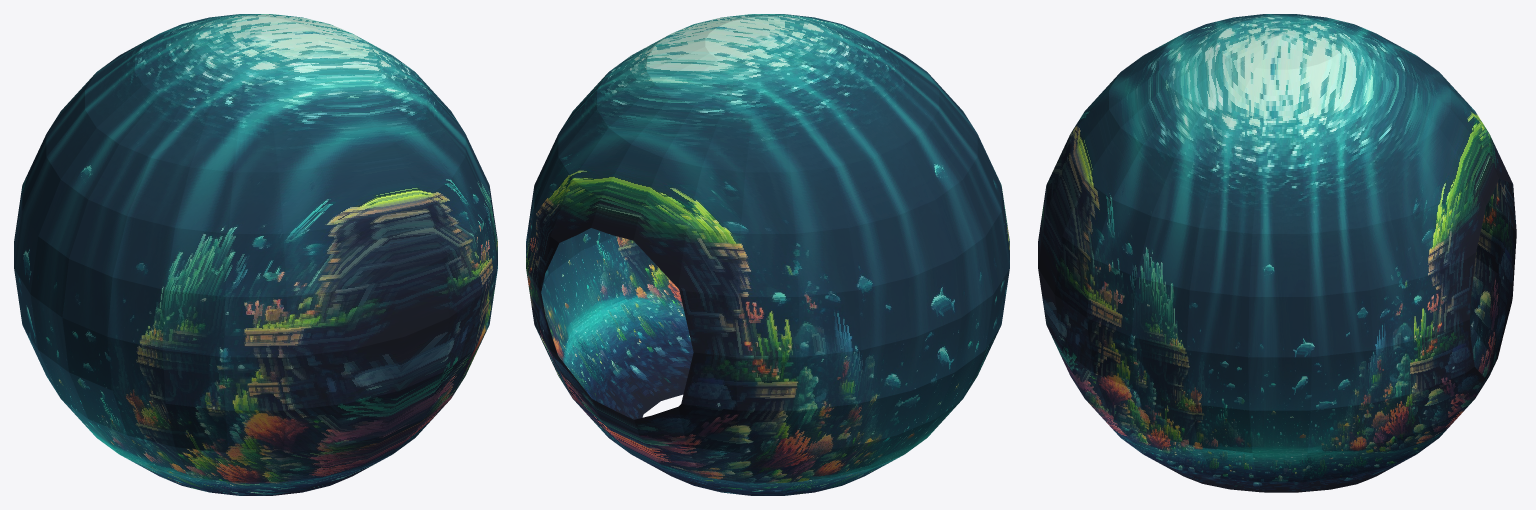
Rendered from SkyBoxOcean.gltf.
3 views of the same model, side by side, from view 1: azimuth 30°, elevation 25°; view 2: azimuth 150°, elevation 25°; view 3: azimuth 270°, elevation 25° (orthographic).
Visible parts, largest first — view 1: sphere; view 2: sphere; view 3: sphere.
Part boxes in pixels (x1,y1,x2,y2): sphere: (14,14,497,495); sphere: (526,14,1009,495); sphere: (1038,14,1516,492).
Size of the model in its own units: 2 by 2 by 2.
1 material, 1 textured.
